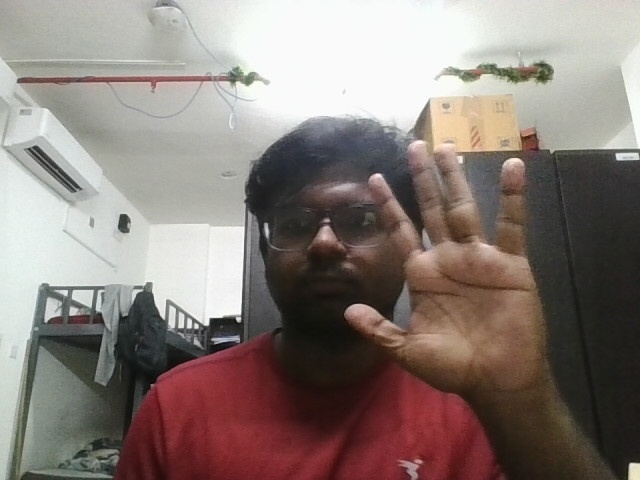Hello: (337, 130, 569, 405)
